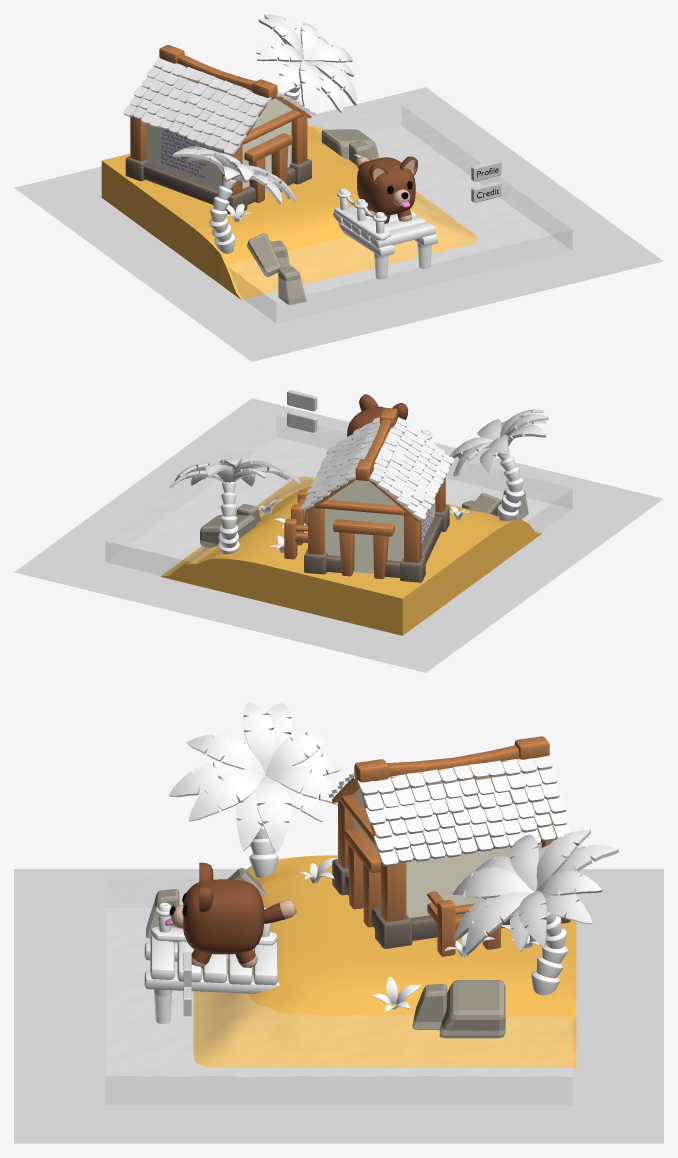
File: sae1.glb
3 renders of one model, top to bottom at view 1: azimuth 30°, elevation 25°; view 2: azimuth 150°, elevation 25°; view 3: azimuth 270°, elevation 25°, orthographic. The views are drawn at different scales.
Parts seen in each view (by area): view 1: Plane.014, Water, sand, Cube.002, Plane.007, Cube, Cube.025, Cube.003, Plane.006, Cube.007, Plane.001, Plane (+14 smaller); view 2: Plane.014, sand, Water, Cube.002, Cube, Cube.003, Plane.009, Plane, Plane.001, Plane.006, Plane.002, Plane.003 (+14 smaller); view 3: Plane.014, Water, sand, Plane.009, Plane.007, Cube.025, Cube.002, Plane.008, Cube.007, Cube, Cube.011, Plane.006 (+18 smaller).
Boxes of the visible parts, x1,y1,x2,y2 form: Plane.014: [14, 87, 663, 361]; Water: [229, 105, 572, 322]; sand: [101, 125, 478, 299]; Cube.002: [130, 106, 307, 202]; Plane.007: [257, 19, 357, 106]; Cube: [146, 98, 292, 193]; Cube.025: [357, 156, 417, 215]; Cube.003: [125, 156, 311, 214]; Plane.006: [256, 14, 354, 112]; Cube.007: [333, 206, 435, 248]; Plane.001: [146, 66, 291, 117]; Plane: [153, 57, 284, 106]; Plane.014: [14, 398, 663, 672]; sand: [160, 476, 542, 635]; Water: [105, 416, 572, 575]; Cube.002: [308, 477, 445, 578]; Cube: [324, 480, 435, 573]; Cube.003: [304, 505, 449, 582]; Plane.009: [450, 409, 548, 476]; Plane: [345, 417, 408, 483]; Plane.001: [336, 422, 418, 491]; Plane.006: [169, 464, 301, 488]; Plane.002: [327, 427, 427, 498]; Plane.003: [317, 434, 436, 506]; Plane.014: [14, 869, 663, 1143]; Water: [105, 878, 572, 1104]; sand: [193, 855, 576, 1067]; Plane.009: [186, 701, 337, 852]; Plane.007: [452, 830, 602, 954]; Cube.025: [169, 862, 263, 954]; Cube.002: [338, 794, 555, 927]; Plane.008: [169, 703, 343, 850]; Cube.007: [150, 935, 277, 985]; Cube: [353, 788, 541, 917]; Cube.011: [439, 980, 505, 1038]; Plane.006: [453, 845, 618, 951].
Bounding box in the file's own units: 17.38 × 8.88 × 17.38.
